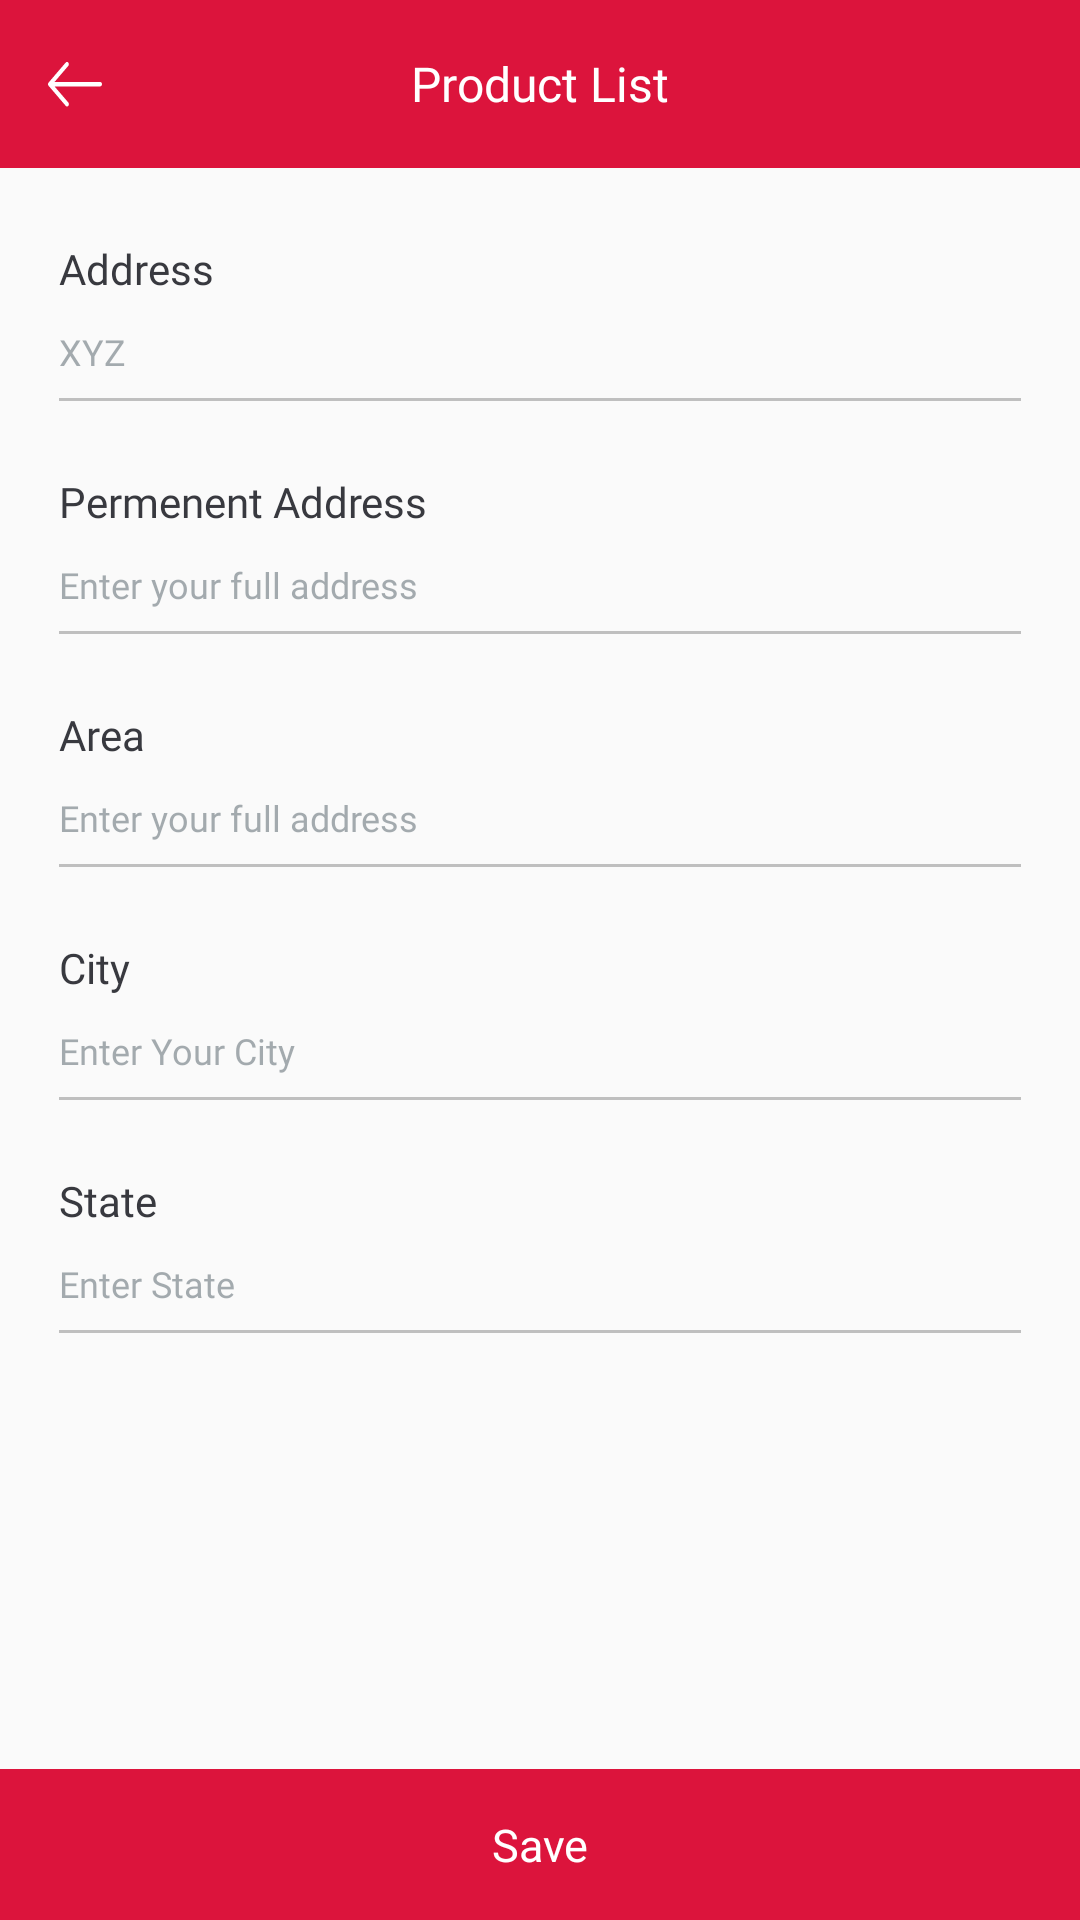

Icon click points for this 1080w x 1920h phone screenshot, format (x=x, y=y):
back: (x=75, y=84)
